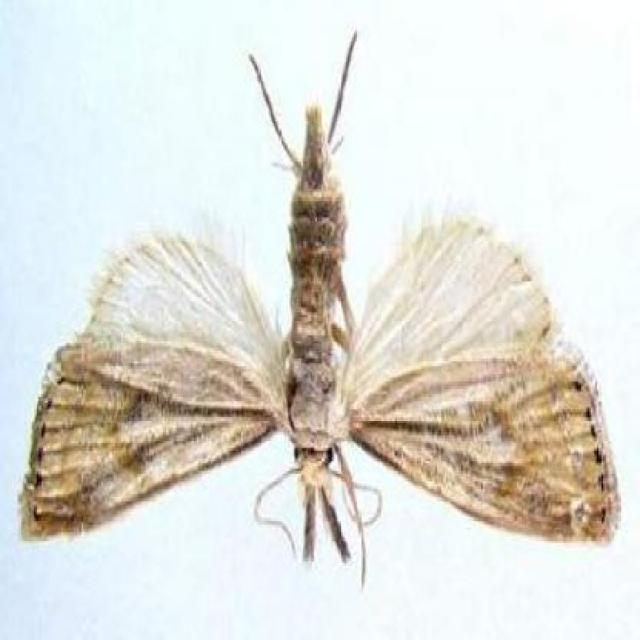stem-borer: (15, 32, 623, 590)
